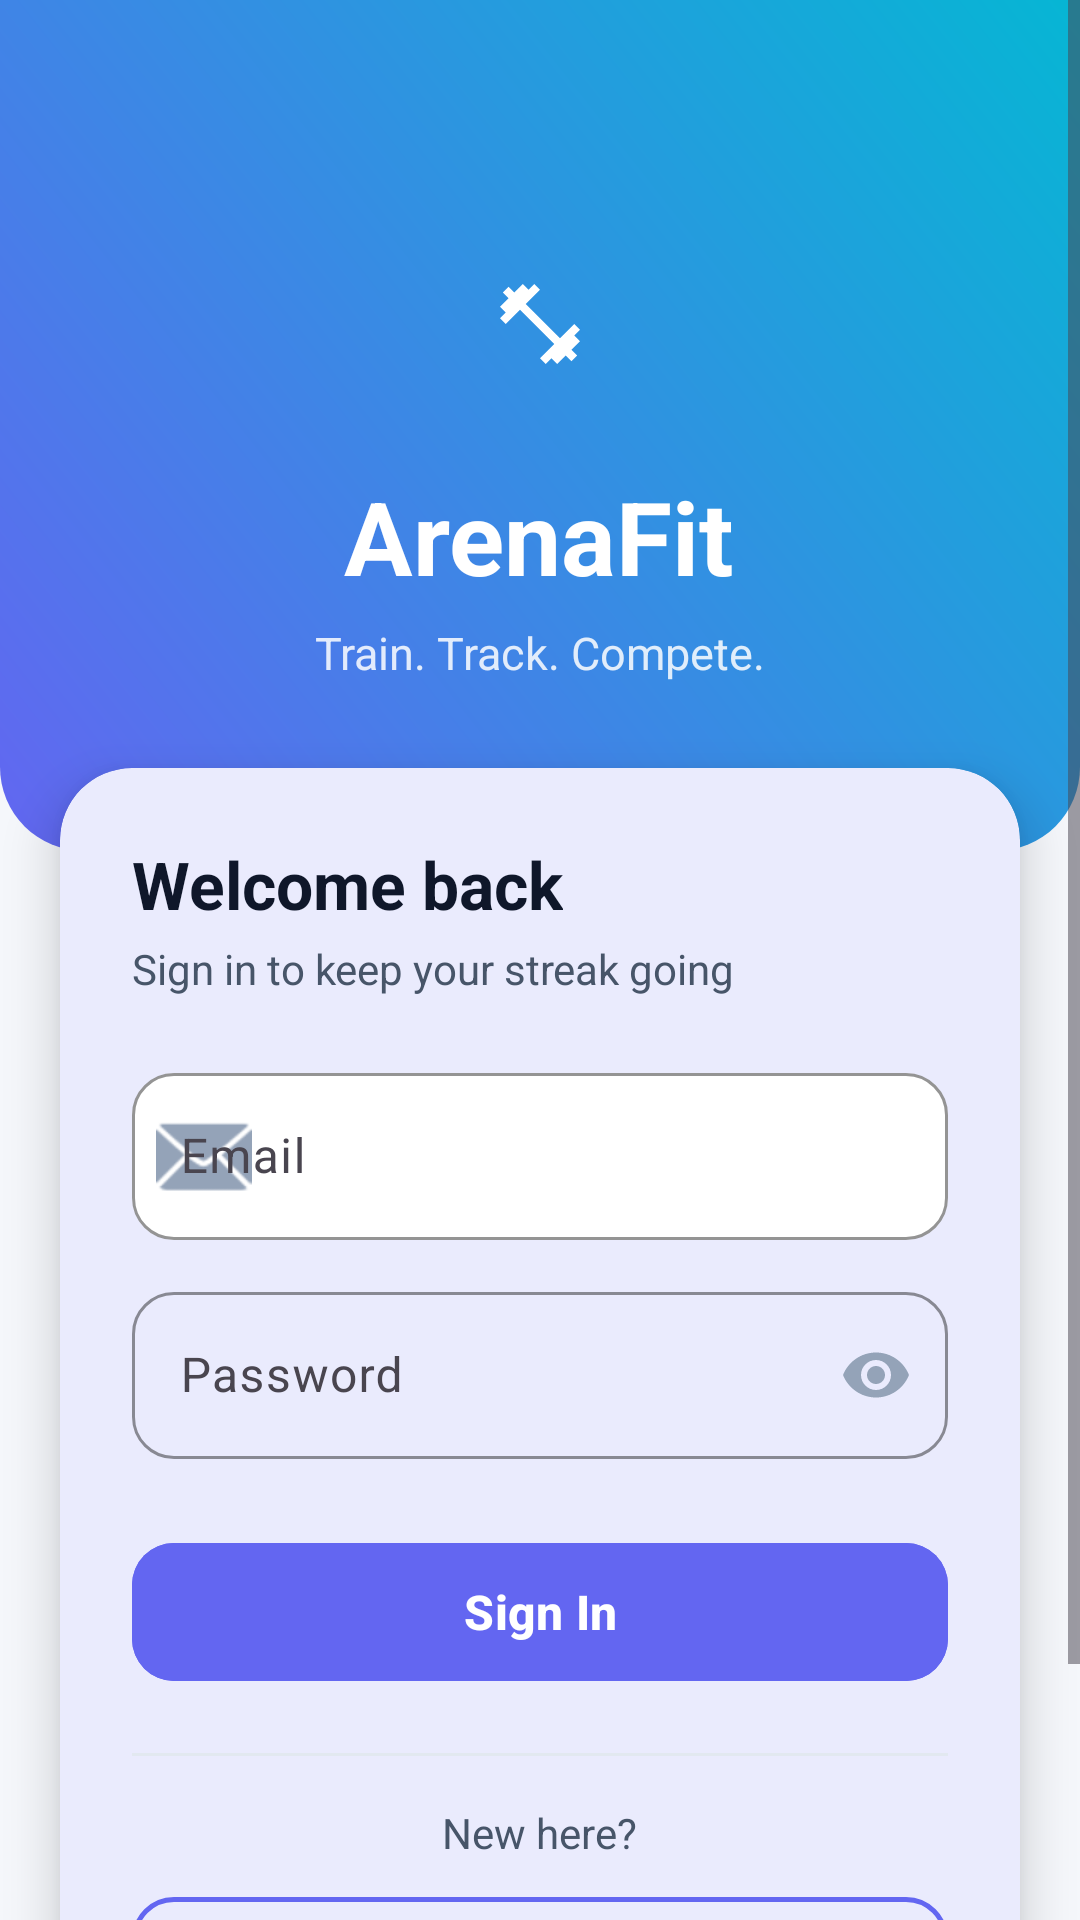

Where to tap for icons on this 1080*1920 app screen, as (x,y):
dumbbell: (540,324)
